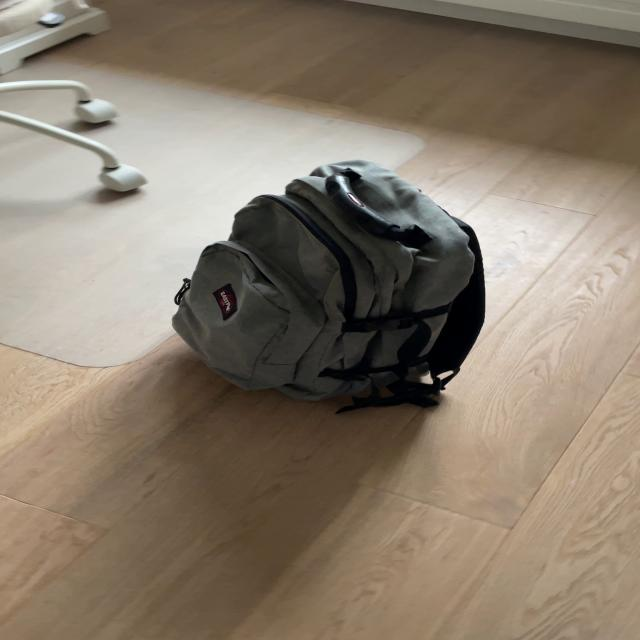backpack: (160, 146, 497, 413)
